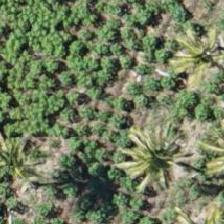coconut_tree: (109, 123, 199, 213), (157, 14, 223, 104), (0, 110, 60, 200)
